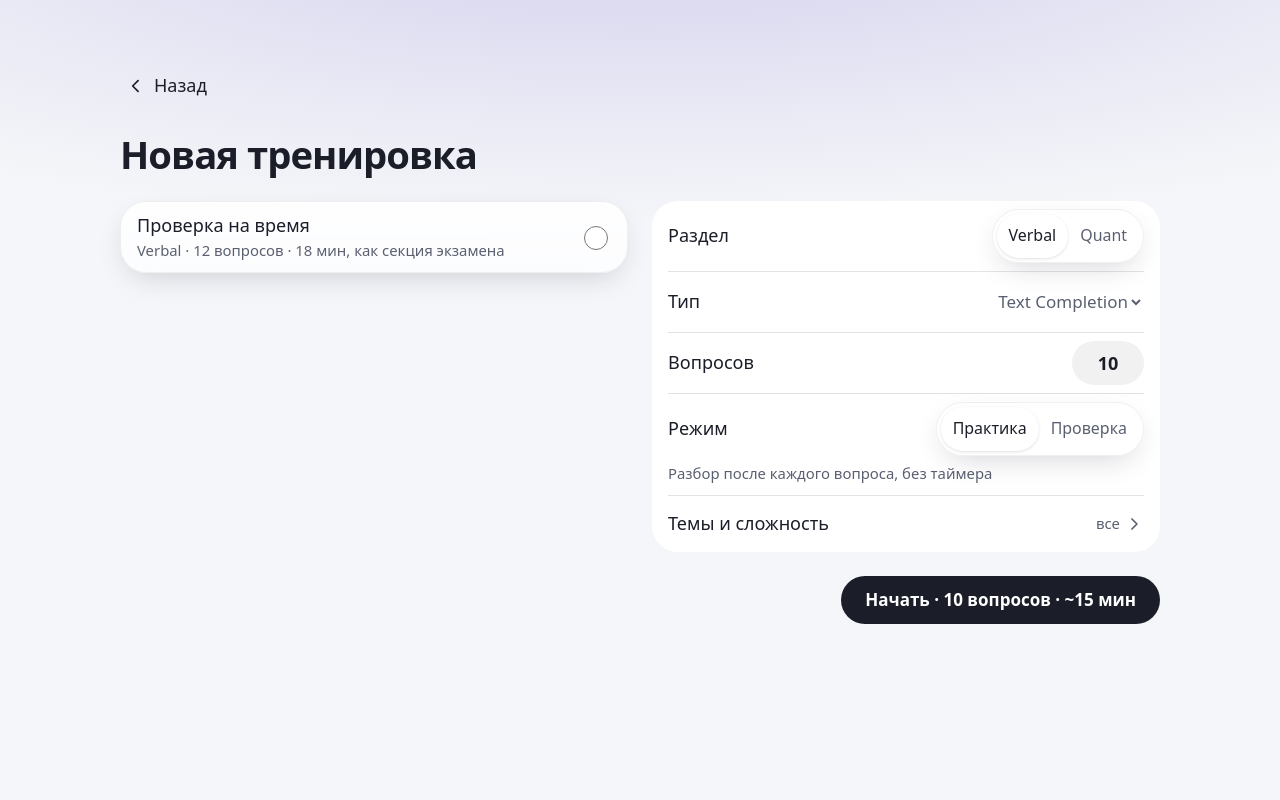
Test: повторная загрузка вариантов сохраняет недособранную форму и открытые темы
expect the field labelled "Вопросов" is shown: met, box [1072,341,1144,385]
Click the button "Quant": (1104, 236) [1068,214,1139,258]
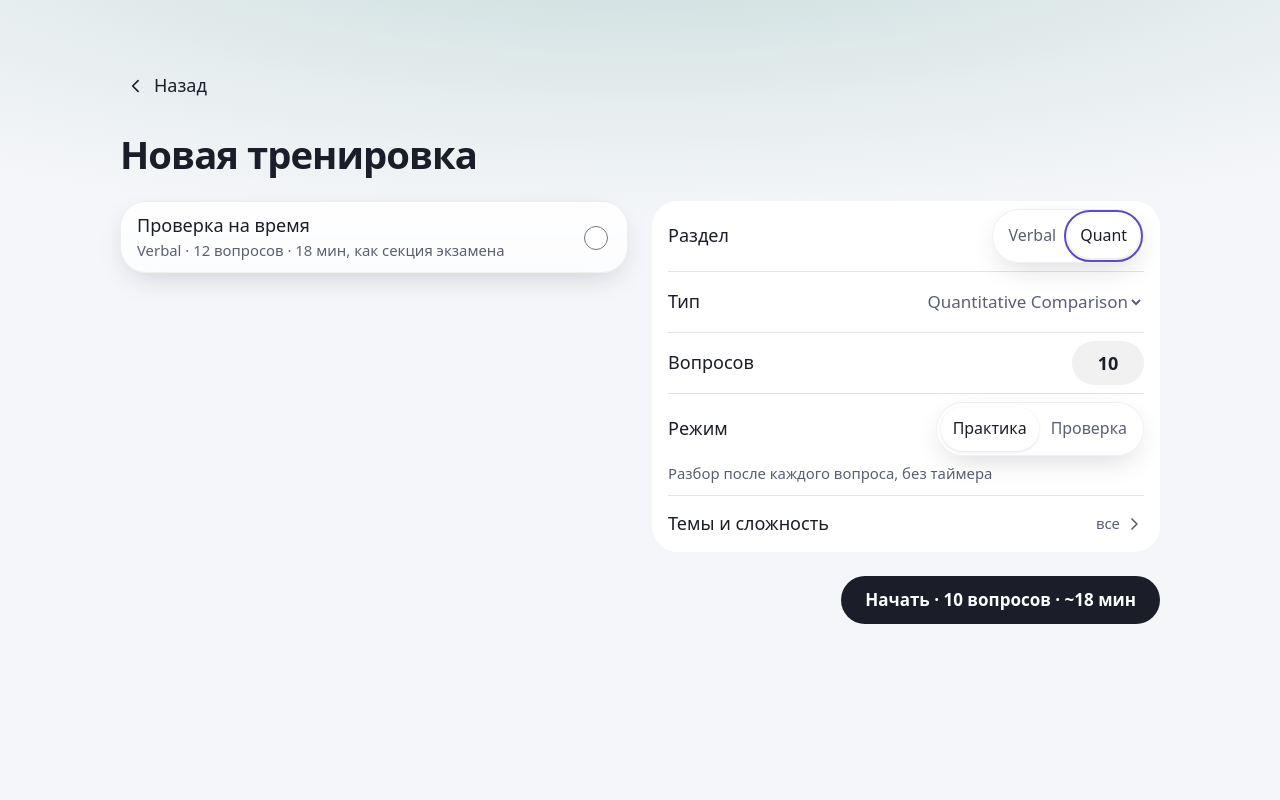
Replace the text in the field labelled "Вопросов" with "5": (1108, 363) [1072,341,1144,385]
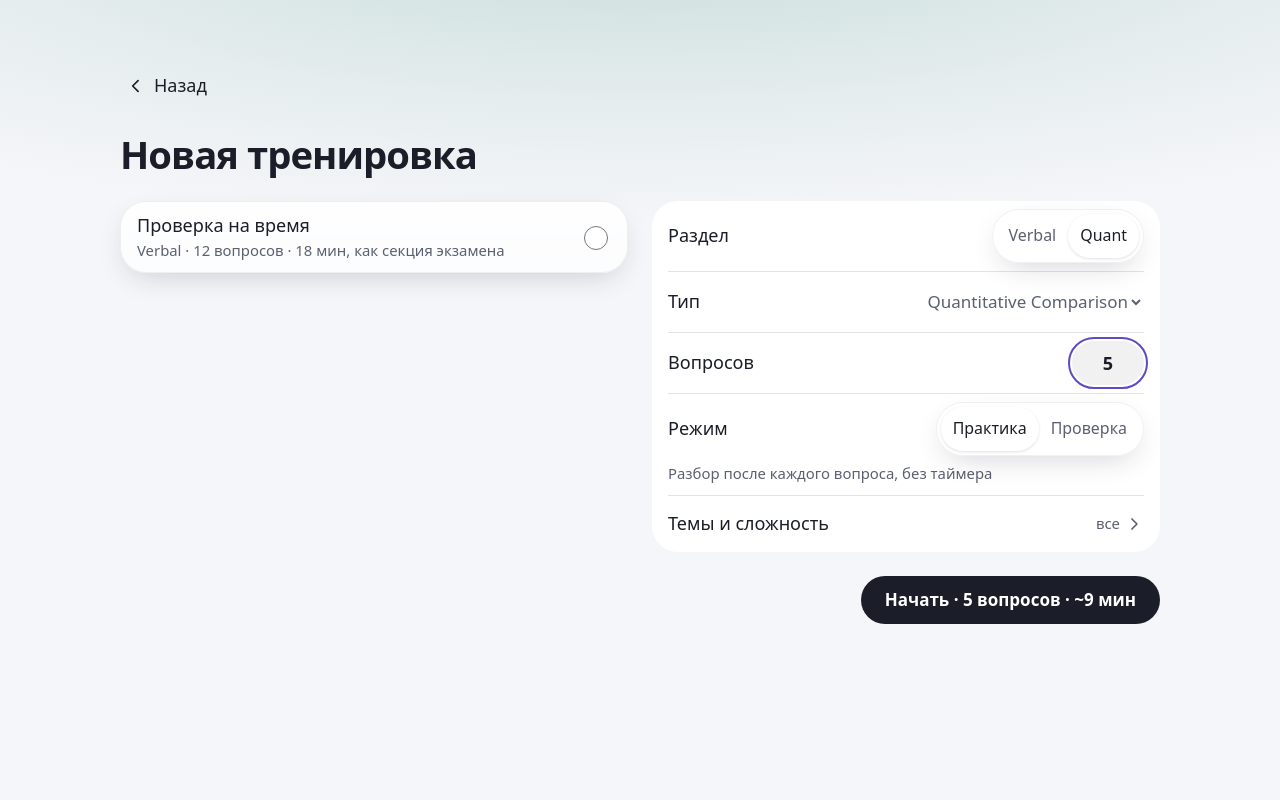
Click the button "Темы и сложность все": (749, 523) [668,496,1144,552]
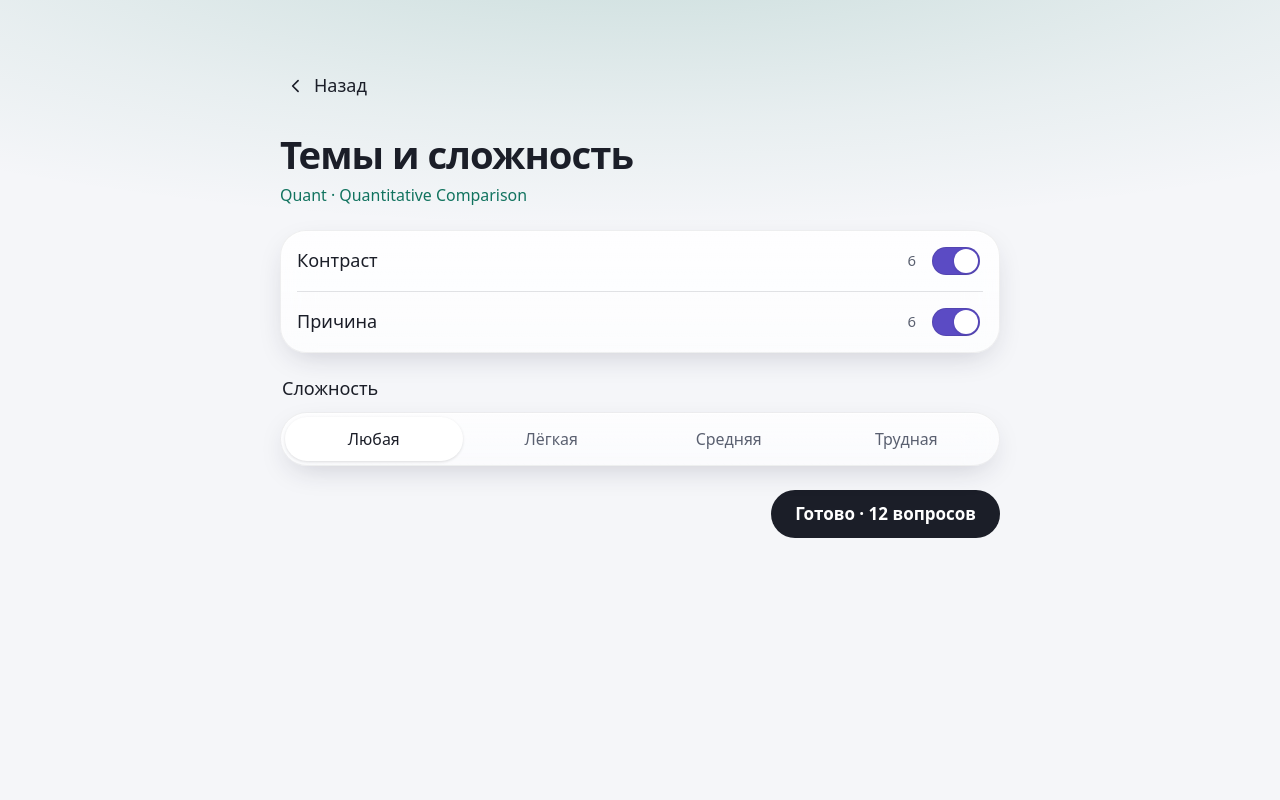
Click the switch labelled "Контраст 6": (956, 261) [932,247,980,275]
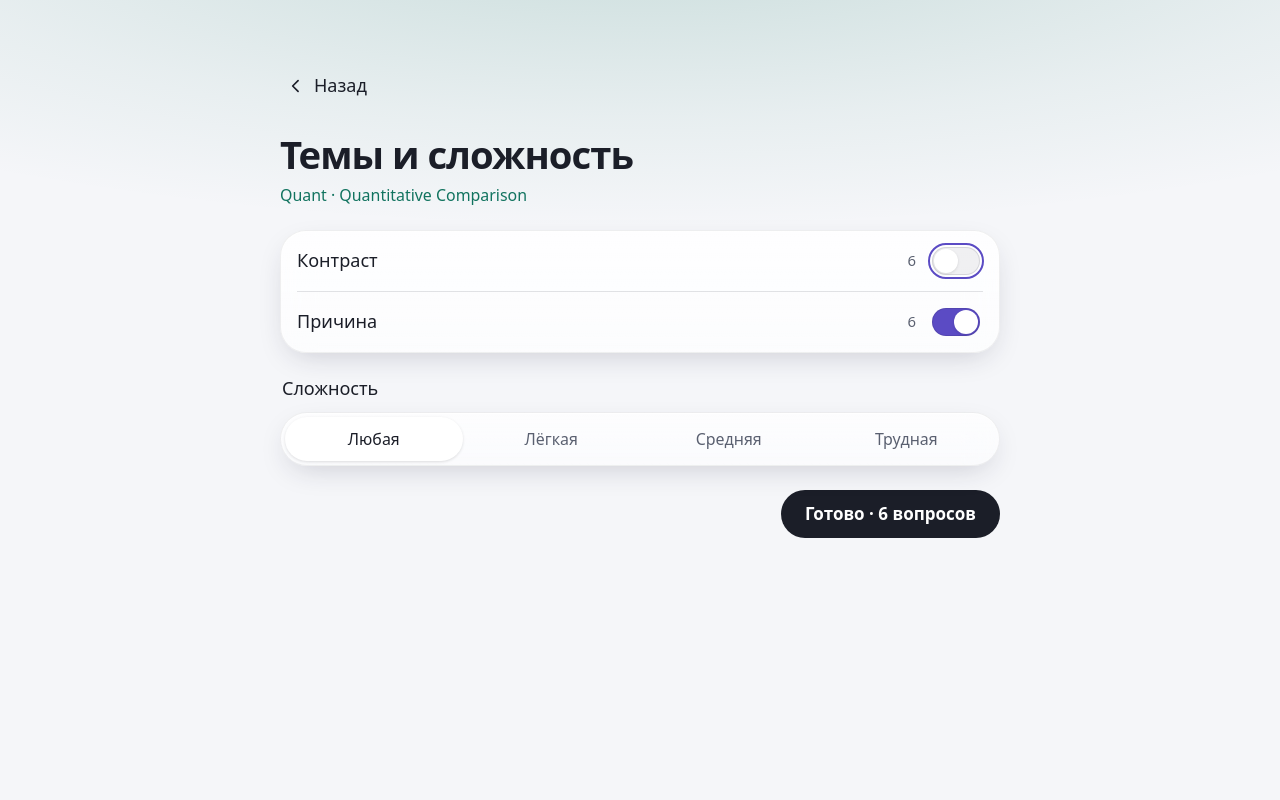
Click the button "Трудная": (906, 439) [818,417,995,461]
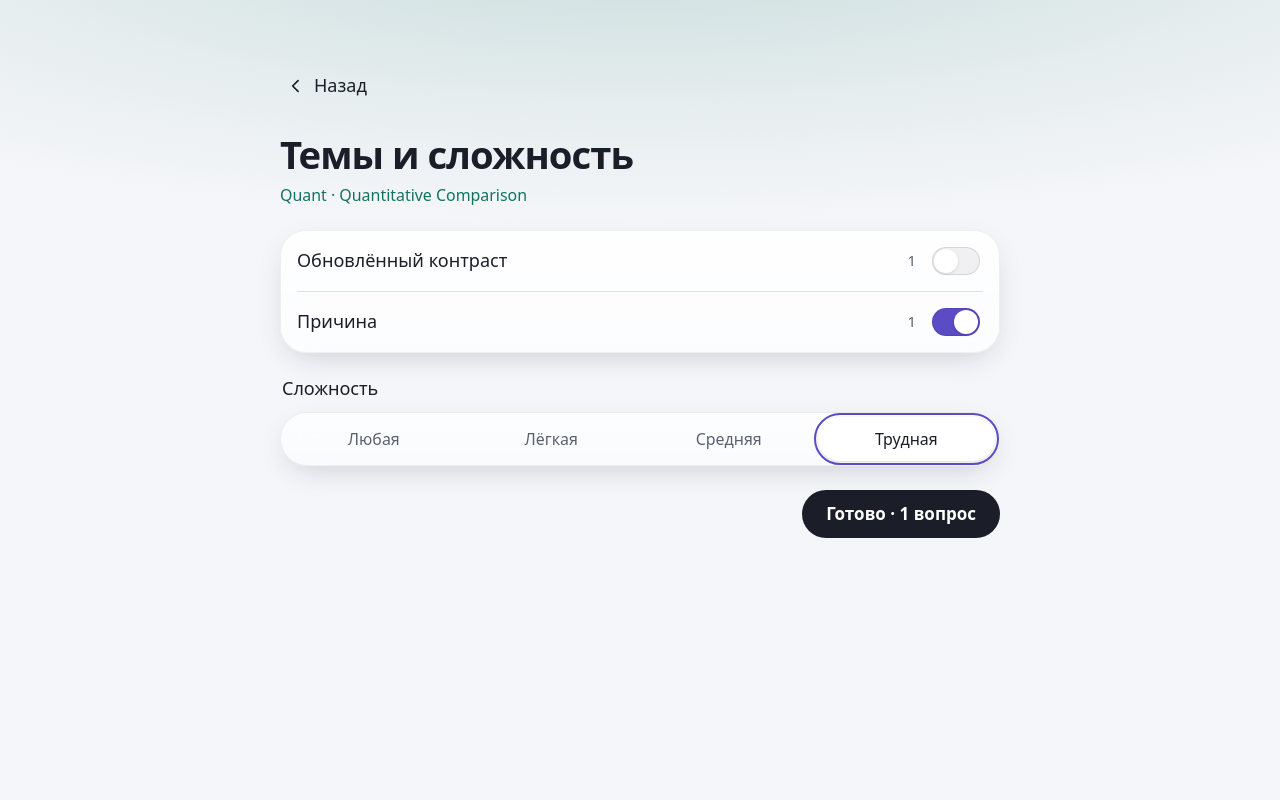
expect the switch labelled "Обновлённый контраст 1" is not checked: met, box [932,247,980,275]
expect the heading "Темы и сложность" is shown: met, box [280,128,633,180]
expect the text "Обновлённый контраст" is shown: met, box [297,248,507,272]
Click the button "Готово · 1 вопрос": (901, 514) [802,490,1000,538]
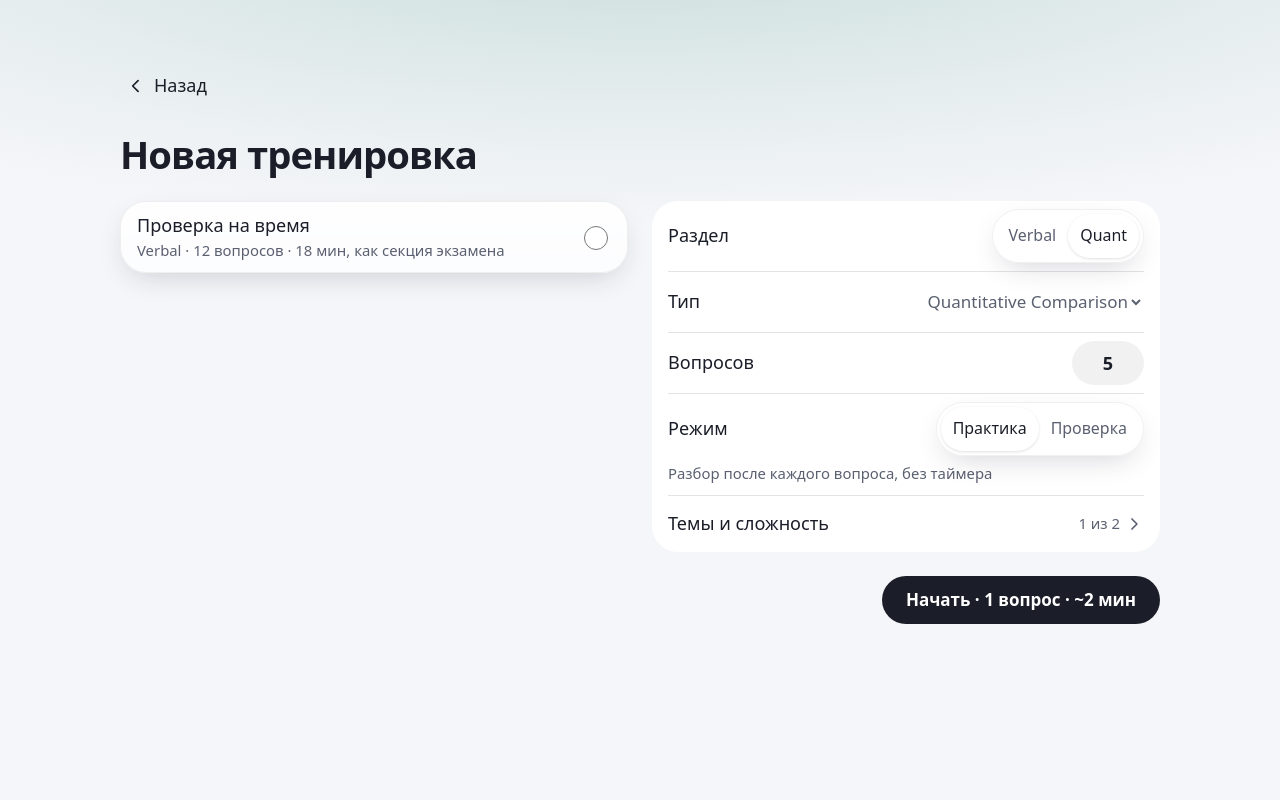
expect the field labelled "Вопросов" holds "5": met, box [1072,341,1144,385]
